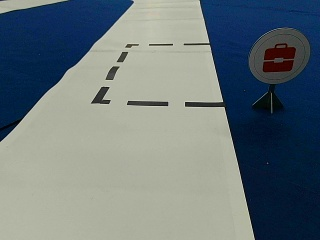company: (249, 28, 310, 82)
